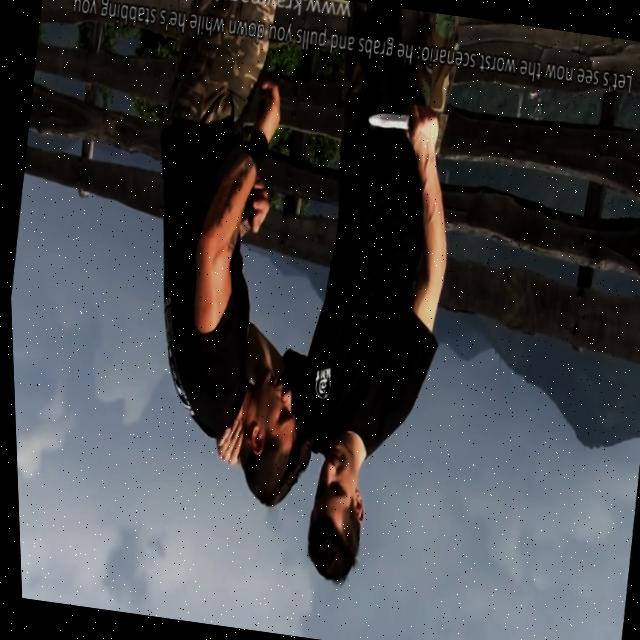knife: (366, 108, 414, 134)
